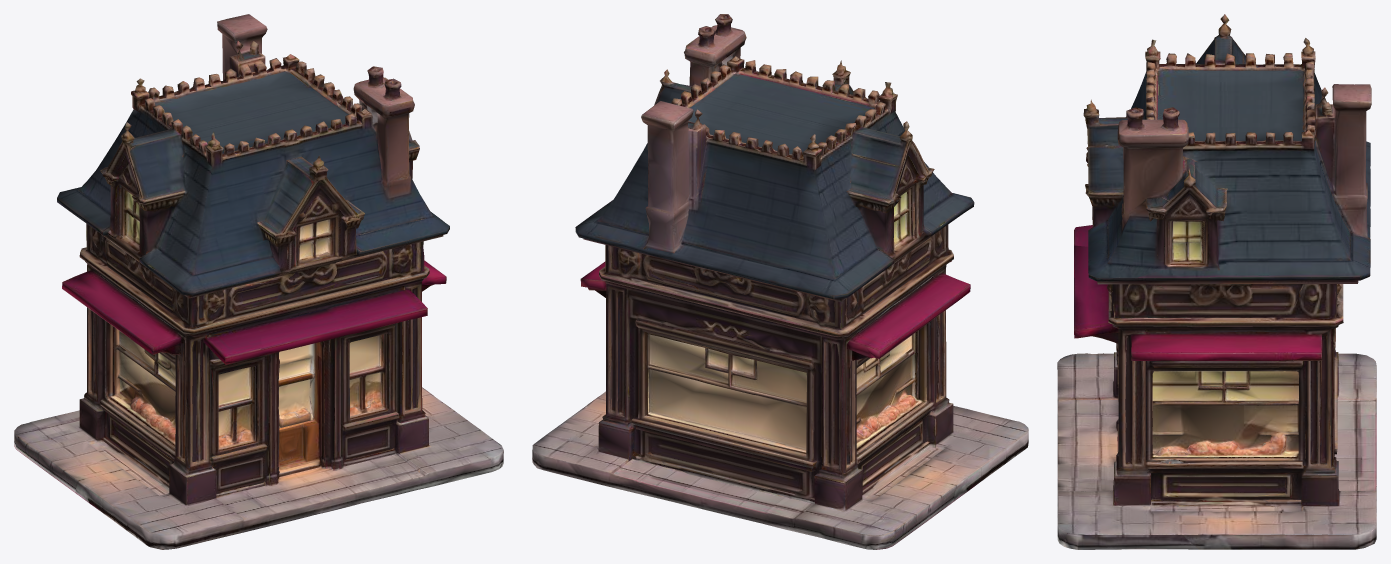
The model's file is tertiary.glb.
3 renders of one model, left to right at view 1: azimuth 30°, elevation 25°; view 2: azimuth 150°, elevation 25°; view 3: azimuth 270°, elevation 25°, orthographic. The views are drawn at different scales.
Visible parts, largest first — view 1: Mesh_0; view 2: Mesh_0; view 3: Mesh_0.
Part boxes in pixels (bbox=[...]): Mesh_0: bbox=[14, 14, 503, 549]; Mesh_0: bbox=[532, 14, 1028, 549]; Mesh_0: bbox=[1057, 14, 1376, 549].
Size of the model in its own units: 1.87 by 1.91 by 1.39.
Materials: 1 (1 with a texture image).
